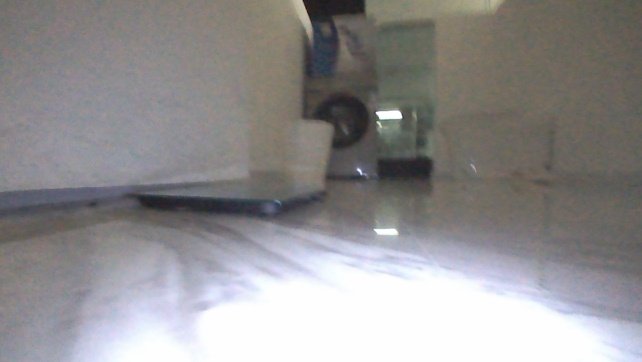toilet: (436, 108, 553, 181)
trash_can: (279, 116, 334, 176)
washing_machine: (303, 69, 380, 181)
weight_scale: (121, 175, 325, 219)
